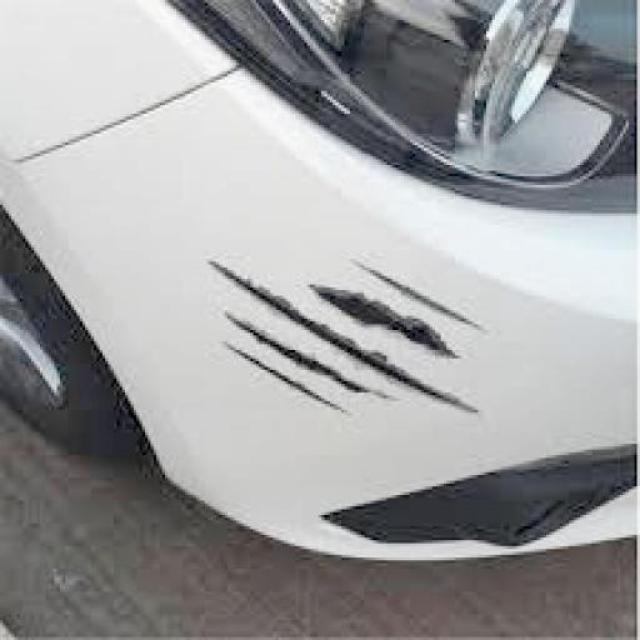Car-Damage: (202, 253, 503, 421)
